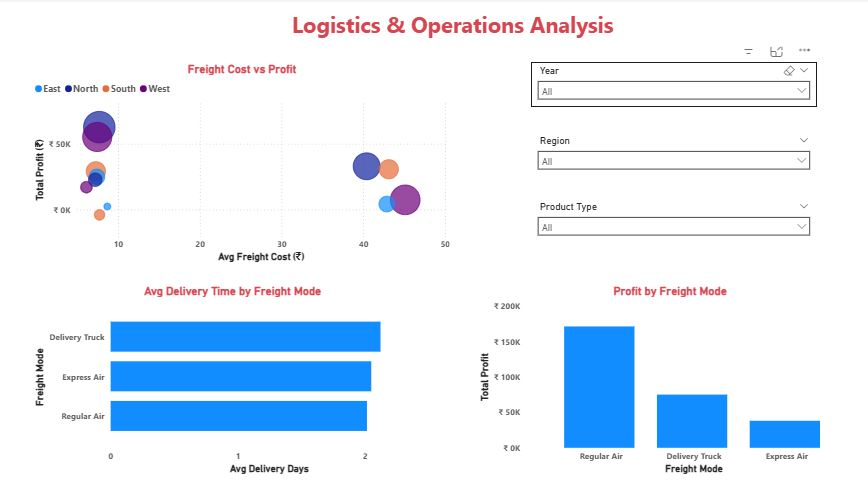

The page's visual inventory and layout, read from the dashboard file:
{"tool":"powerbi","page":{"name":"Logistics","canvas":[1280,720],"ordinal":3},"visuals":[{"type":"clusteredBarChart","title":"Avg Delivery Time by Freight Mode","fields":{"Category":["Fact_Retail_Sales.Freight Mode"],"Y":["Measure.Avg Delivery Days"]},"box":[47.9,420.4,593,283.7],"z":0},{"type":"clusteredColumnChart","title":"Profit by Freight Mode","fields":{"Category":["Fact_Retail_Sales.Freight Mode"],"Y":["Measure.Total Profit"]},"box":[702.4,420.4,570.8,283.7],"z":1000},{"type":"scatterChart","title":"Freight Cost vs Profit","fields":{"X":["Measure.Avg Freight Expenses"],"Y":["Measure.Total Profit"],"Size":["Measure.Total Sales"],"Series":["Dim_Geography.Region"],"Category":["Fact_Retail_Sales.Freight Mode"]},"box":[47.9,94,620.3,299.1],"z":2000},{"type":"slicer","fields":{"Values":["Dim_Date.Year"]},"box":[782.7,94,420.4,66.6],"z":3000},{"type":"slicer","fields":{"Values":["Dim_Geography.Region"]},"box":[782.7,196.5,420.4,66.6],"z":4000},{"type":"slicer","fields":{"Values":["Dim_Product.Product Type"]},"box":[782.7,293.9,420.4,66.6],"z":5000},{"type":"textbox","box":[42.7,12,1189.4,59.8],"z":6000}]}

Visuals, with their boxes in screenshot pixels (x1, y1, x2, y2), scaled from the page's 1280x720 canvas onto the 868x486 screenshot:
"Avg Delivery Time by Freight Mode" clusteredBarChart: (32, 284, 435, 475)
"Profit by Freight Mode" clusteredColumnChart: (476, 284, 863, 475)
"Freight Cost vs Profit" scatterChart: (32, 63, 453, 265)
slicer - Dim_Date.Year: (531, 63, 816, 108)
slicer - Dim_Geography.Region: (531, 133, 816, 178)
slicer - Dim_Product.Product Type: (531, 198, 816, 243)
textbox: (29, 8, 836, 48)
